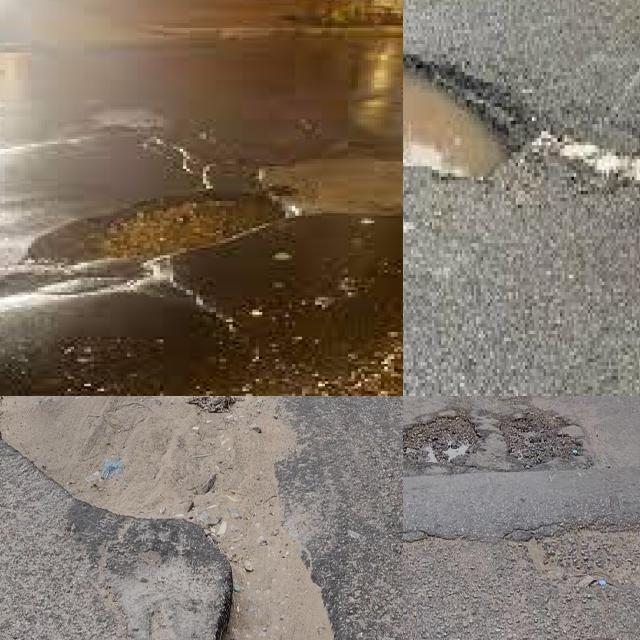Pothole: (28, 192, 280, 265), (403, 60, 539, 180), (214, 545, 339, 640), (498, 402, 581, 468), (403, 409, 478, 470)
